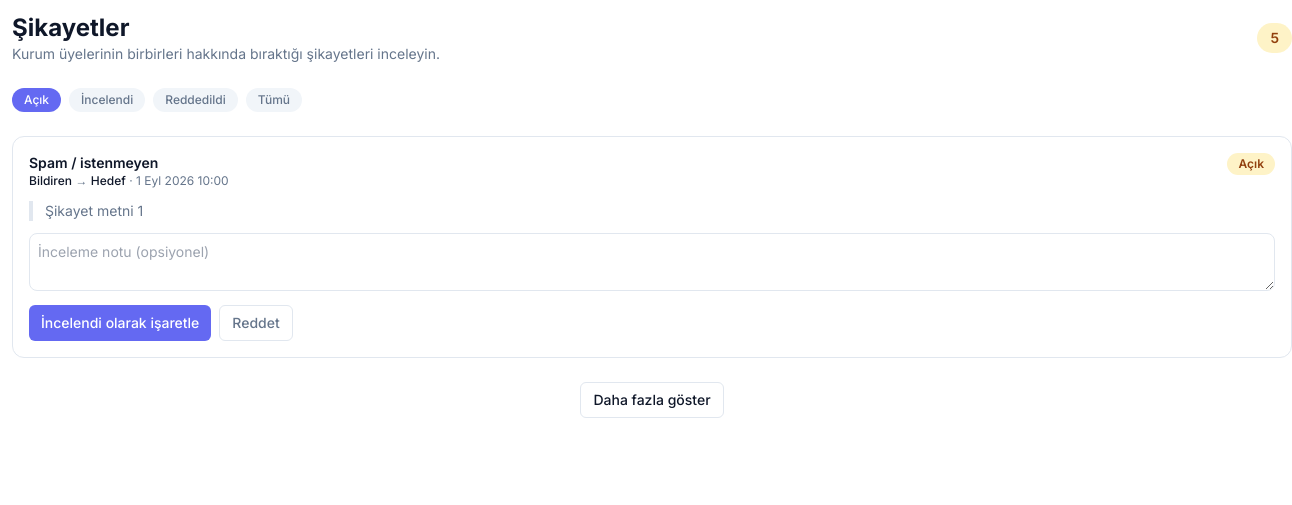
Şikayet paneli sayfalama (AN-39) › ikinci sayfa hatasında mevcut satırlar kalır ve Türkçe hata görünür
The image size is (1292, 505).
Check: the text "Şikayet metni 1" is shown, box [29,201,1275,221]
Step 1. Click the button "Daha fazla göster" → (652, 400), box [580,382,724,418]
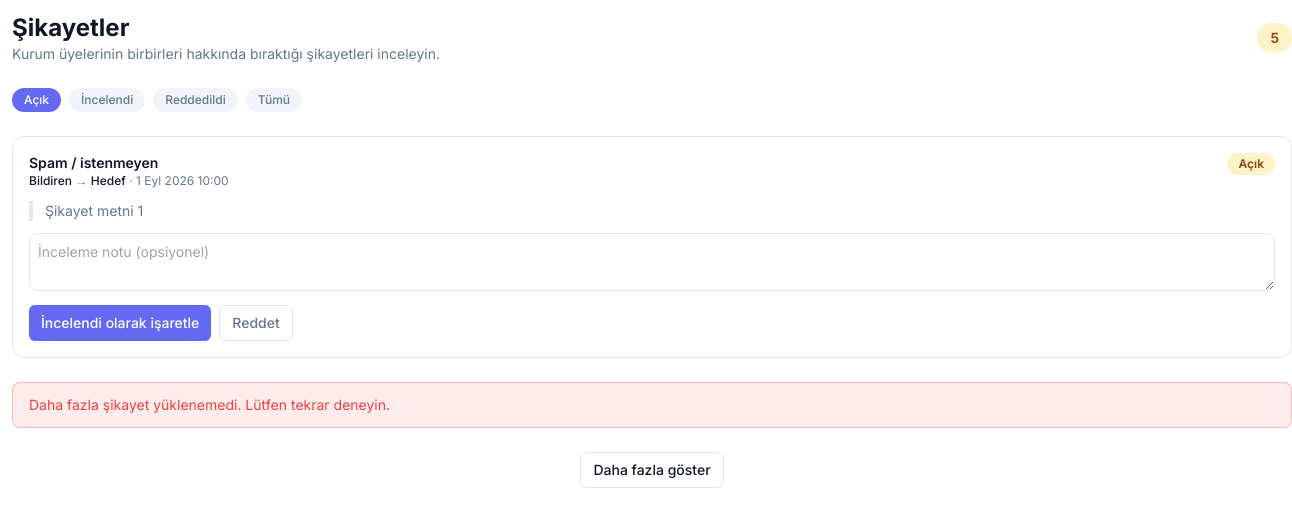
Check: the text "Şikayet metni 1" is shown, box [29,201,1275,221]
Check: the text "Daha fazla şikayet yüklenemedi. Lütfen tekrar deneyin." is shown, box [12,382,1291,428]
